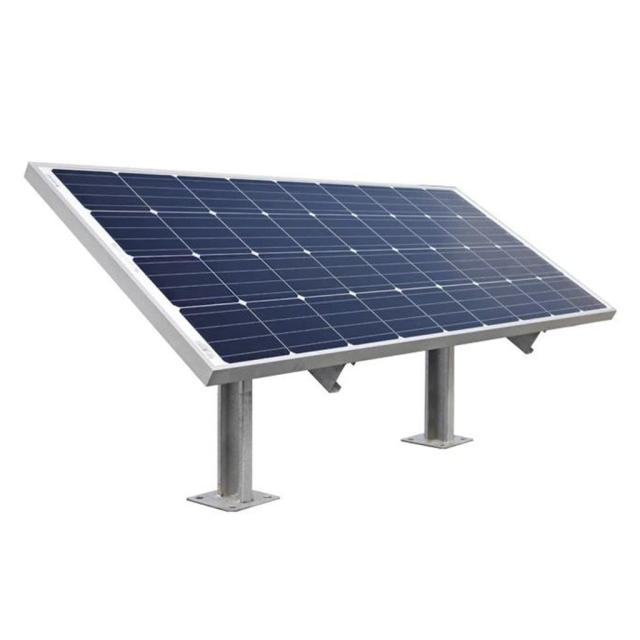clean-solar-panel: (26, 162, 615, 510)
